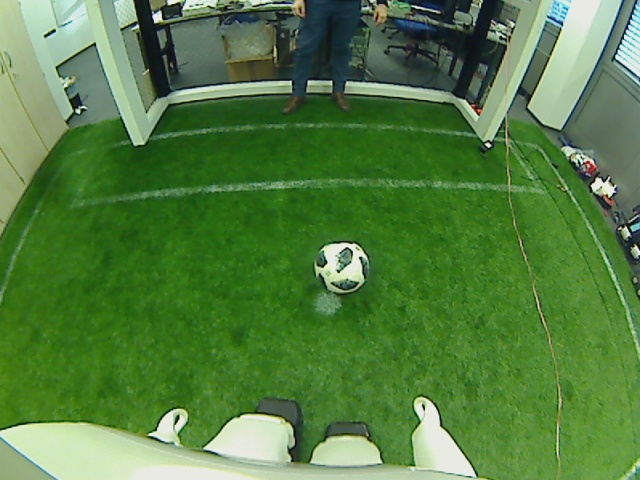ball: (312, 240, 372, 296)
